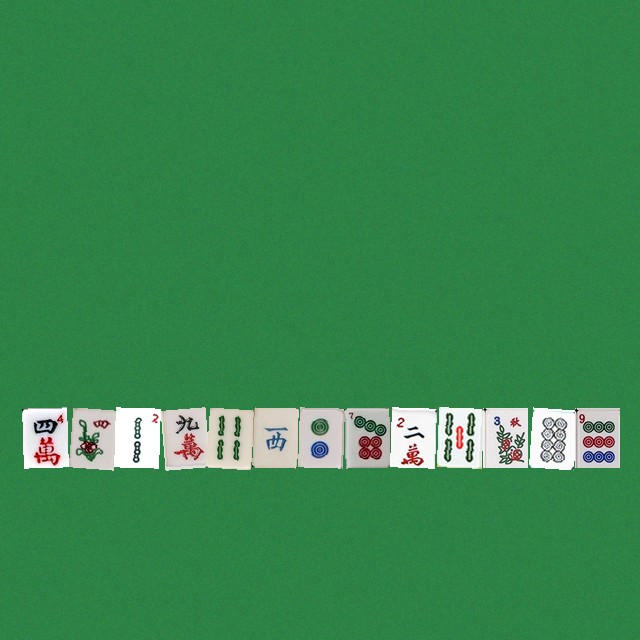tile: (22, 407, 67, 467), (68, 407, 113, 467), (114, 407, 159, 467), (160, 407, 205, 467), (206, 407, 251, 467), (252, 407, 297, 467), (298, 407, 343, 467), (344, 407, 389, 467), (390, 407, 435, 467), (436, 407, 481, 467), (482, 407, 527, 467), (528, 407, 573, 467), (574, 407, 619, 467)
